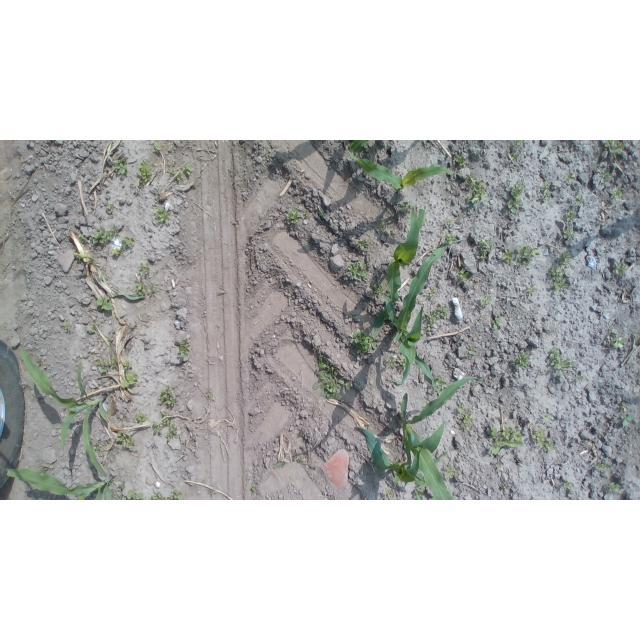Maize: (383, 238, 465, 391), (19, 346, 109, 478), (399, 376, 479, 500), (366, 209, 425, 344), (353, 425, 448, 488), (347, 151, 462, 192), (0, 466, 114, 500), (348, 140, 402, 152)
Weeds: (312, 356, 344, 400), (489, 426, 523, 455), (350, 330, 380, 354), (549, 348, 574, 376), (532, 426, 557, 451), (468, 177, 487, 207), (507, 183, 525, 213), (548, 266, 568, 293), (347, 260, 369, 280), (117, 431, 136, 451), (606, 329, 626, 348), (160, 385, 177, 407), (91, 228, 113, 244), (138, 162, 153, 185), (604, 141, 625, 156), (425, 310, 440, 331), (516, 246, 540, 259), (121, 373, 140, 388), (514, 352, 530, 369), (154, 207, 170, 223), (479, 238, 491, 259), (95, 297, 113, 311), (285, 209, 302, 223), (179, 339, 190, 358), (115, 158, 128, 174), (167, 424, 179, 441), (560, 251, 573, 266), (97, 360, 110, 375), (377, 218, 392, 231), (398, 202, 415, 213), (601, 169, 614, 183), (541, 181, 551, 199), (136, 283, 148, 298), (502, 249, 514, 264), (127, 490, 144, 500), (373, 283, 386, 296), (121, 236, 135, 248), (443, 464, 455, 478), (622, 414, 635, 426), (138, 263, 150, 276), (136, 413, 148, 426), (453, 156, 467, 167), (436, 376, 447, 390), (464, 414, 473, 431), (437, 305, 449, 317), (458, 269, 469, 282), (443, 233, 456, 244), (415, 486, 425, 500), (597, 462, 612, 471), (563, 228, 575, 239), (611, 189, 624, 199), (615, 262, 625, 275), (180, 165, 193, 175), (152, 421, 162, 434), (566, 210, 577, 221), (357, 240, 368, 251), (609, 483, 620, 494), (172, 490, 184, 500), (110, 490, 122, 500), (492, 317, 502, 329), (527, 284, 536, 297), (148, 492, 162, 500), (162, 411, 170, 425), (175, 171, 185, 182), (481, 296, 492, 306), (566, 172, 575, 184), (458, 403, 467, 415), (427, 288, 437, 298), (122, 361, 132, 371), (467, 346, 478, 355), (517, 261, 530, 268), (111, 248, 121, 257), (109, 358, 119, 367), (38, 467, 48, 476), (389, 357, 398, 367), (620, 401, 629, 411), (72, 253, 84, 260), (154, 141, 162, 151), (275, 461, 285, 469), (293, 455, 303, 463), (543, 413, 553, 421), (386, 490, 394, 500), (564, 480, 572, 490), (78, 234, 86, 243), (106, 202, 114, 211), (118, 481, 126, 490), (573, 198, 583, 205), (303, 209, 311, 217), (63, 322, 70, 330), (90, 324, 97, 332), (108, 479, 116, 486), (495, 462, 503, 469), (444, 218, 453, 224), (511, 155, 518, 162), (170, 166, 176, 174), (93, 443, 101, 449), (345, 382, 351, 390), (113, 229, 119, 236), (400, 359, 406, 366), (485, 195, 491, 202), (517, 141, 524, 146), (577, 376, 584, 381), (150, 284, 154, 292), (251, 487, 255, 495), (319, 210, 324, 216), (37, 358, 42, 364), (502, 485, 507, 490), (634, 334, 640, 338), (492, 246, 497, 250), (211, 397, 215, 402), (193, 184, 197, 188), (479, 317, 483, 321), (165, 497, 170, 500), (451, 366, 455, 369), (132, 325, 136, 328), (638, 373, 640, 377)
